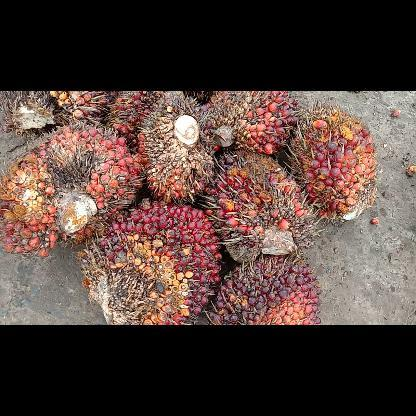TBS masak: (0, 122, 143, 255), (80, 198, 222, 324), (208, 146, 320, 262), (116, 92, 218, 202), (295, 102, 377, 220), (213, 256, 325, 324), (212, 91, 300, 159)
